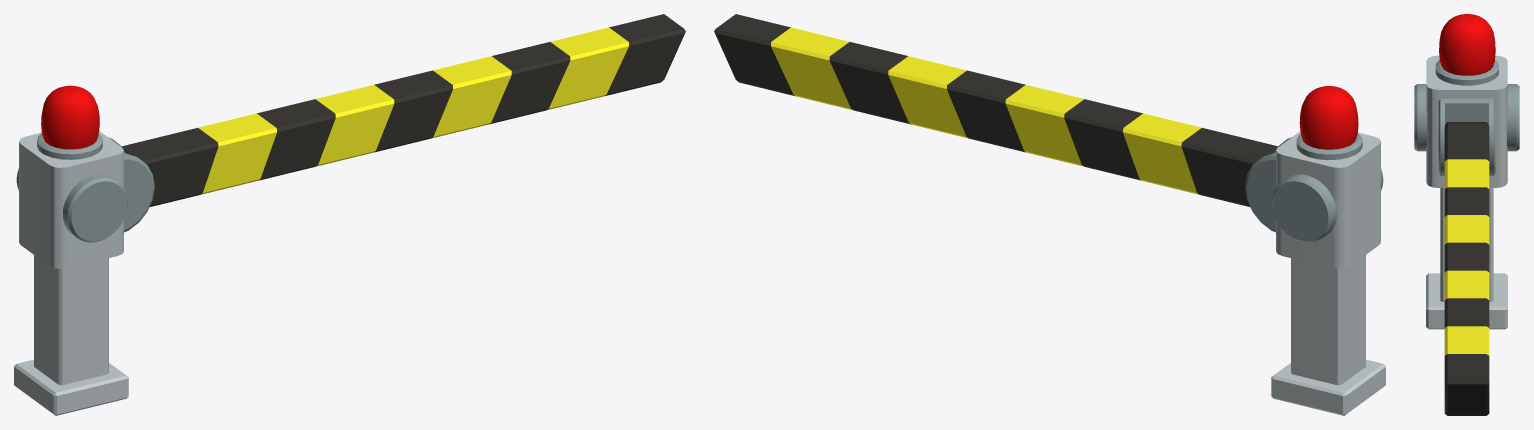
Rendered from barrier.fbx.
3 renders of one model, left to right at view 1: azimuth 30°, elevation 25°; view 2: azimuth 150°, elevation 25°; view 3: azimuth 270°, elevation 25°, orthographic. The views are drawn at different scales.
Parts seen in each view (by area): view 1: barrier_boom, body; view 2: barrier_boom, body; view 3: body, barrier_boom.
Boxes of the visible parts, bbox=[...] form: barrier_boom: bbox=[121, 14, 685, 206]; body: bbox=[14, 85, 154, 415]; barrier_boom: bbox=[714, 14, 1278, 206]; body: bbox=[1245, 86, 1385, 415]; body: bbox=[1414, 14, 1519, 329]; barrier_boom: bbox=[1444, 122, 1489, 415].
Bounding box in the file's own units: 409 × 185 × 60.07.
